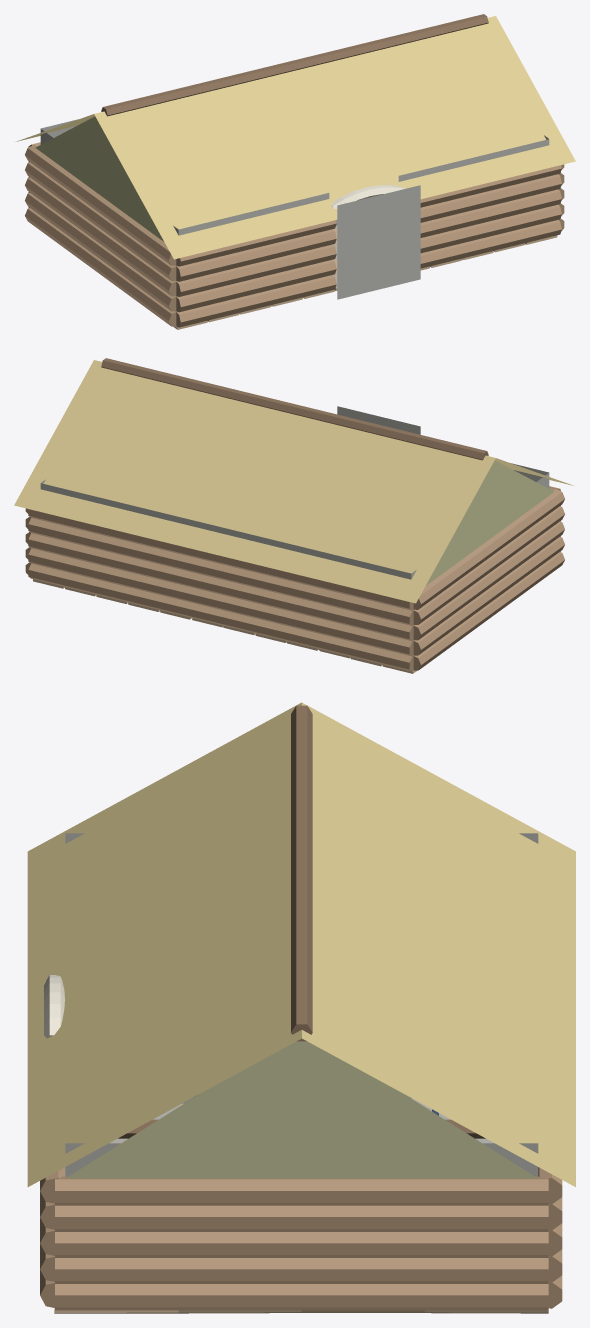
Rendered from int_lodge.glb.
3 views of the same model, one above another, from view 1: azimuth 30°, elevation 25°; view 2: azimuth 150°, elevation 25°; view 3: azimuth 270°, elevation 25° (orthographic). The views are drawn at different scales.
Parts seen in each view (by area): view 1: lodge_shell, col; view 2: lodge_shell, col; view 3: lodge_shell, col.
Part boxes in pixels (bbox=[...]): lodge_shell: bbox=[16, 14, 575, 329]; col: bbox=[40, 119, 549, 327]; lodge_shell: bbox=[14, 358, 573, 673]; col: bbox=[40, 406, 549, 670]; lodge_shell: bbox=[27, 702, 575, 1313]; col: bbox=[65, 833, 538, 1176].
Size of the model in its own units: 11.6 by 4.67 by 8.2.
